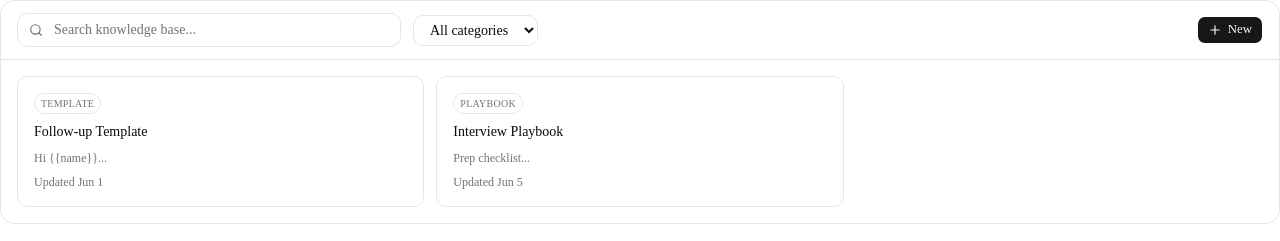
Test: filters items by search query
Type "Interview" into the field with placeholder "Search knowledge base..." at (209, 30), box top-left (17, 13), bottom-right (401, 47)
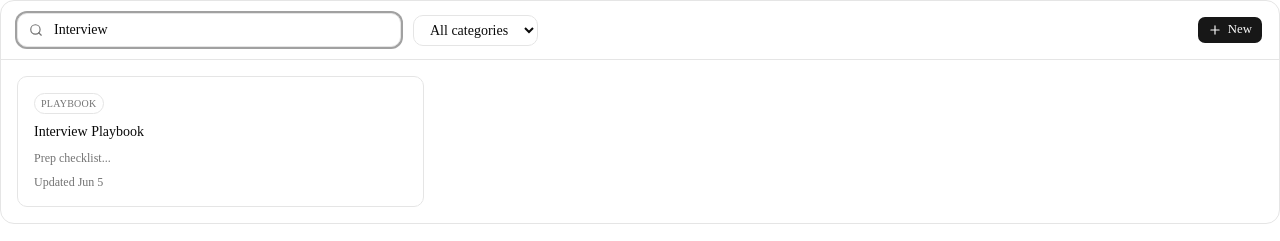
Expected: the heading "Interview Playbook" is shown, top-left (34, 124), bottom-right (144, 139)
Expected: the heading "Follow-up Template" is gone
